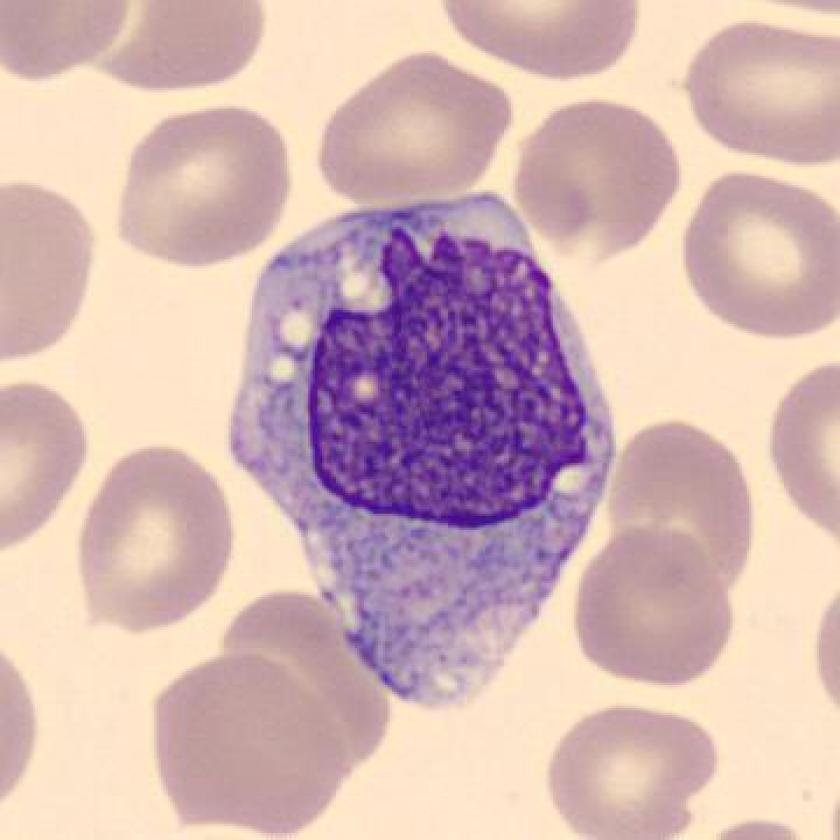monocyte: (200, 173, 641, 719)
